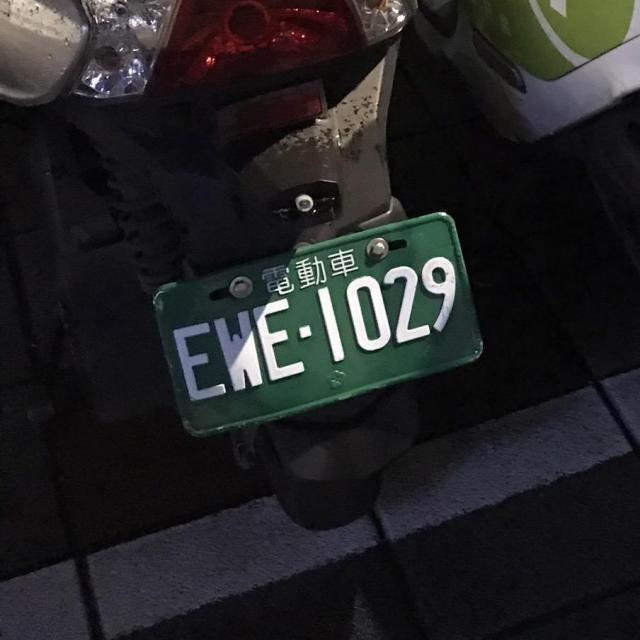GW: (132, 205, 503, 448)
